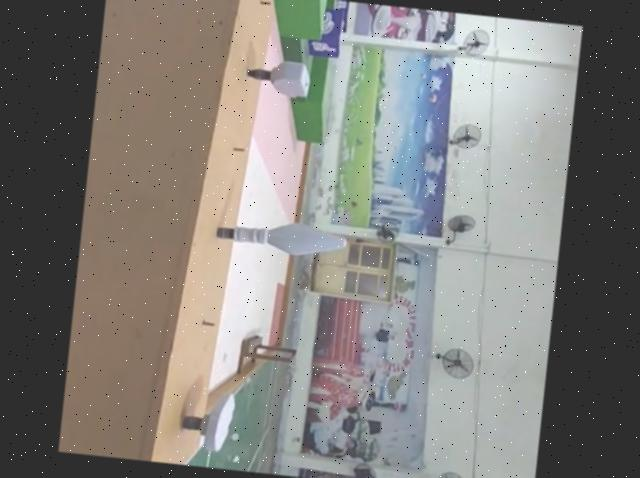Fist: (244, 59, 315, 104)
Hand: (177, 397, 235, 451)
Sph: (212, 216, 348, 264)
